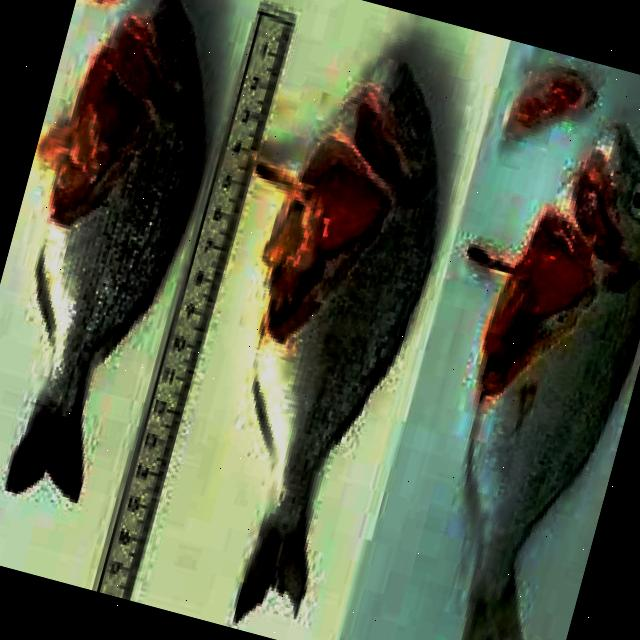Epizootic Ulcerative Syndrome -EUS-: (235, 61, 439, 619), (235, 61, 437, 620), (7, 0, 203, 500), (8, 0, 204, 500), (462, 123, 640, 640), (462, 124, 640, 640), (463, 124, 640, 640)
